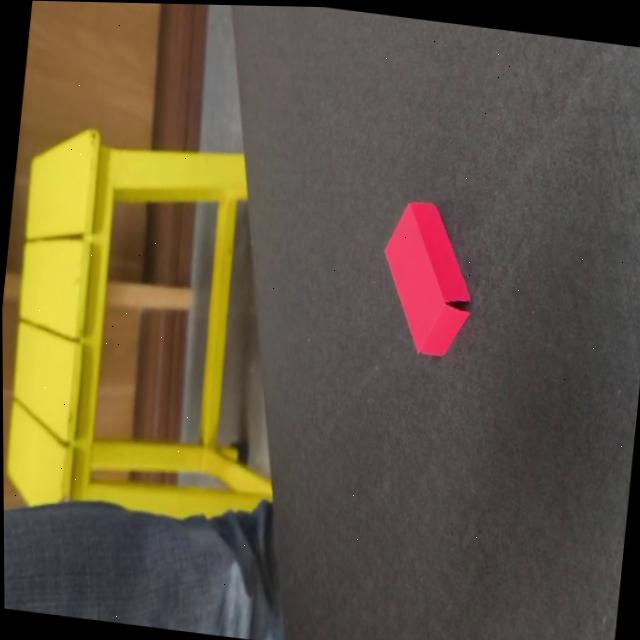red block: (371, 195, 482, 363)
